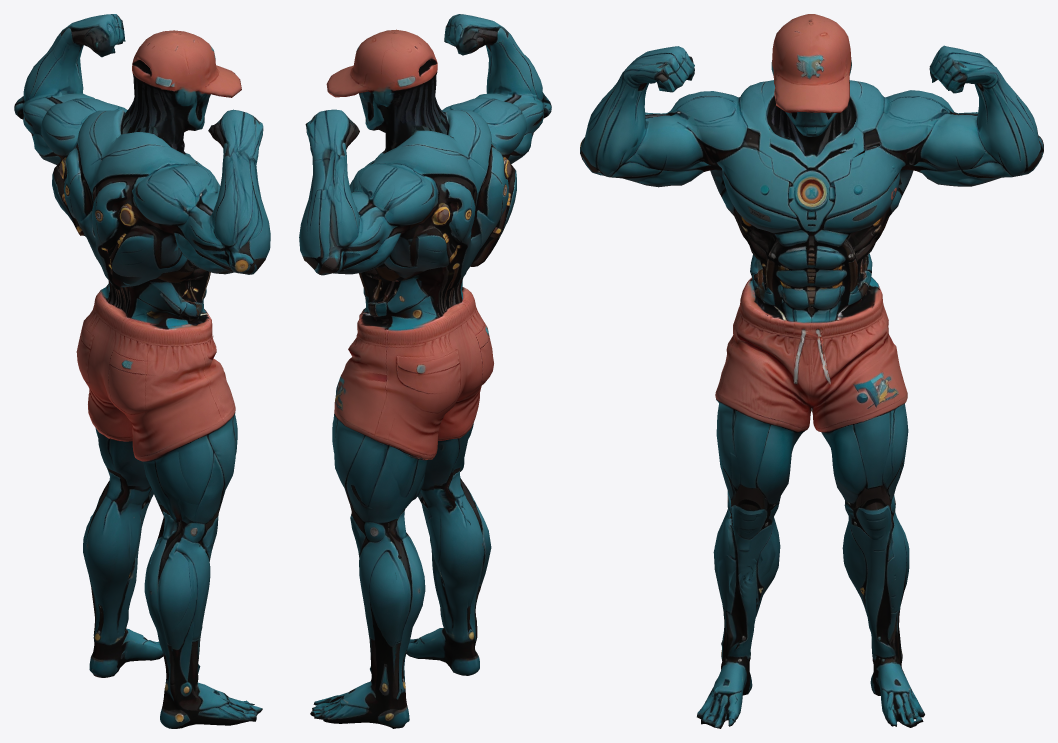
The model's file is captain_hema_fixed_final.glb.
3 renders of one model, left to right at view 1: azimuth 30°, elevation 25°; view 2: azimuth 150°, elevation 25°; view 3: azimuth 270°, elevation 25°, orthographic. The views are drawn at different scales.
Parts seen in each view (by area): view 1: tripo_node_a39b6e1e, back_mesh, glutes_mesh, backleg_mesh, wrist_mesh, calf_mesh, shoulders_mesh, frontleg_mesh, try_mesh, abs_mesh2, abs_mesh, biceps_mesh; view 2: tripo_node_a39b6e1e, back_mesh, glutes_mesh, backleg_mesh, wrist_mesh, calf_mesh, shoulders_mesh, frontleg_mesh, try_mesh, abs_mesh2, abs_mesh, biceps_mesh; view 3: tripo_node_a39b6e1e, frontleg_mesh, chest_mesh, wrist_mesh, biceps_mesh, abs_mesh2, shoulders_mesh, back_mesh, abs_mesh, try_mesh.
Boxes of the visible parts, x1,y1,x2,y2 form: tripo_node_a39b6e1e: (43, 14, 263, 728); back_mesh: (52, 109, 193, 287); glutes_mesh: (76, 289, 203, 421); backleg_mesh: (88, 387, 205, 533); wrist_mesh: (14, 30, 270, 274); calf_mesh: (83, 509, 199, 645); shoulders_mesh: (41, 98, 218, 225); frontleg_mesh: (183, 360, 237, 493); try_mesh: (19, 98, 234, 274); abs_mesh2: (107, 270, 210, 324); abs_mesh: (128, 265, 205, 320); biceps_mesh: (52, 86, 218, 222); tripo_node_a39b6e1e: (305, 14, 545, 728); back_mesh: (375, 110, 516, 288); glutes_mesh: (372, 286, 493, 420); backleg_mesh: (365, 386, 481, 524); wrist_mesh: (299, 29, 551, 275); calf_mesh: (386, 488, 491, 642); shoulders_mesh: (351, 97, 526, 227); frontleg_mesh: (332, 360, 383, 506); try_mesh: (325, 97, 546, 274); abs_mesh2: (359, 273, 463, 322); abs_mesh: (359, 261, 473, 316); biceps_mesh: (351, 89, 530, 213); tripo_node_a39b6e1e: (626, 14, 998, 728); frontleg_mesh: (715, 334, 908, 501); chest_mesh: (715, 127, 902, 237); wrist_mesh: (580, 60, 1043, 178); biceps_mesh: (624, 103, 1004, 181); abs_mesh2: (756, 230, 860, 320); shoulders_mesh: (671, 90, 947, 161); back_mesh: (710, 80, 913, 234); abs_mesh: (740, 222, 880, 300); try_mesh: (623, 103, 1003, 187).
Size of the model in its own units: 0.2429 by 0.9784 by 0.5947.
1 material, 1 textured.
